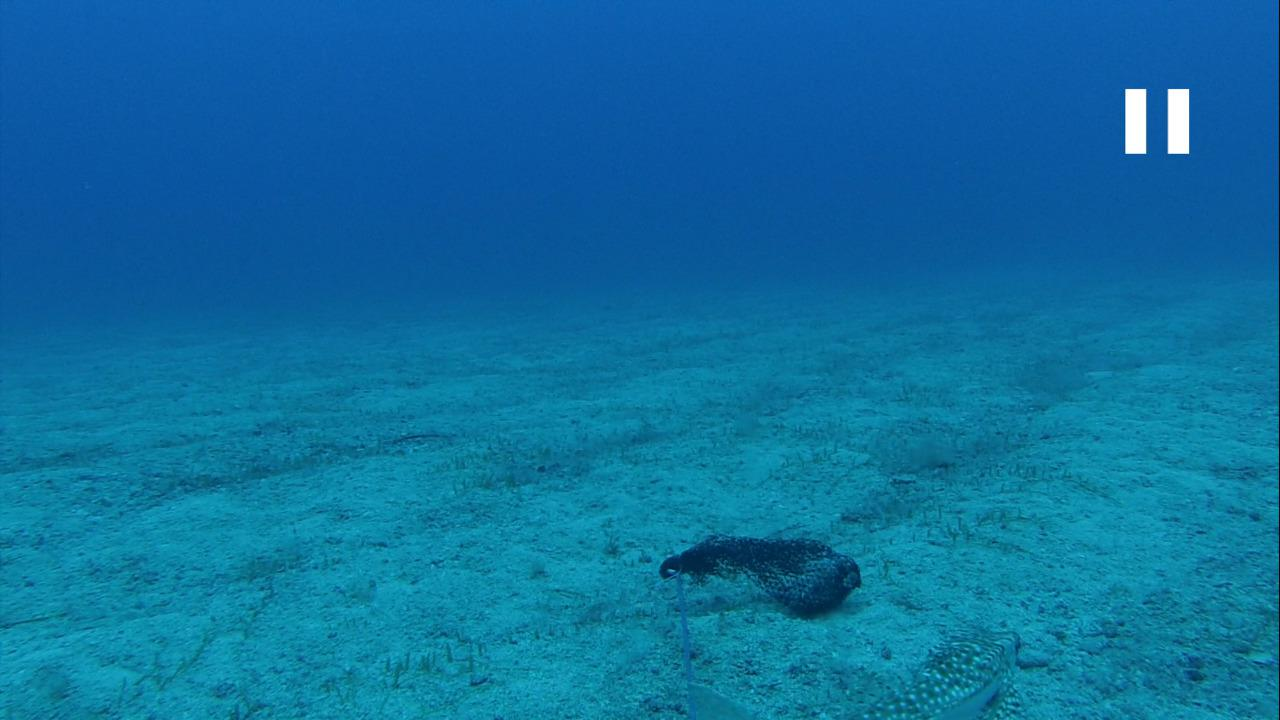dactylopterus: (679, 624, 1026, 719)
